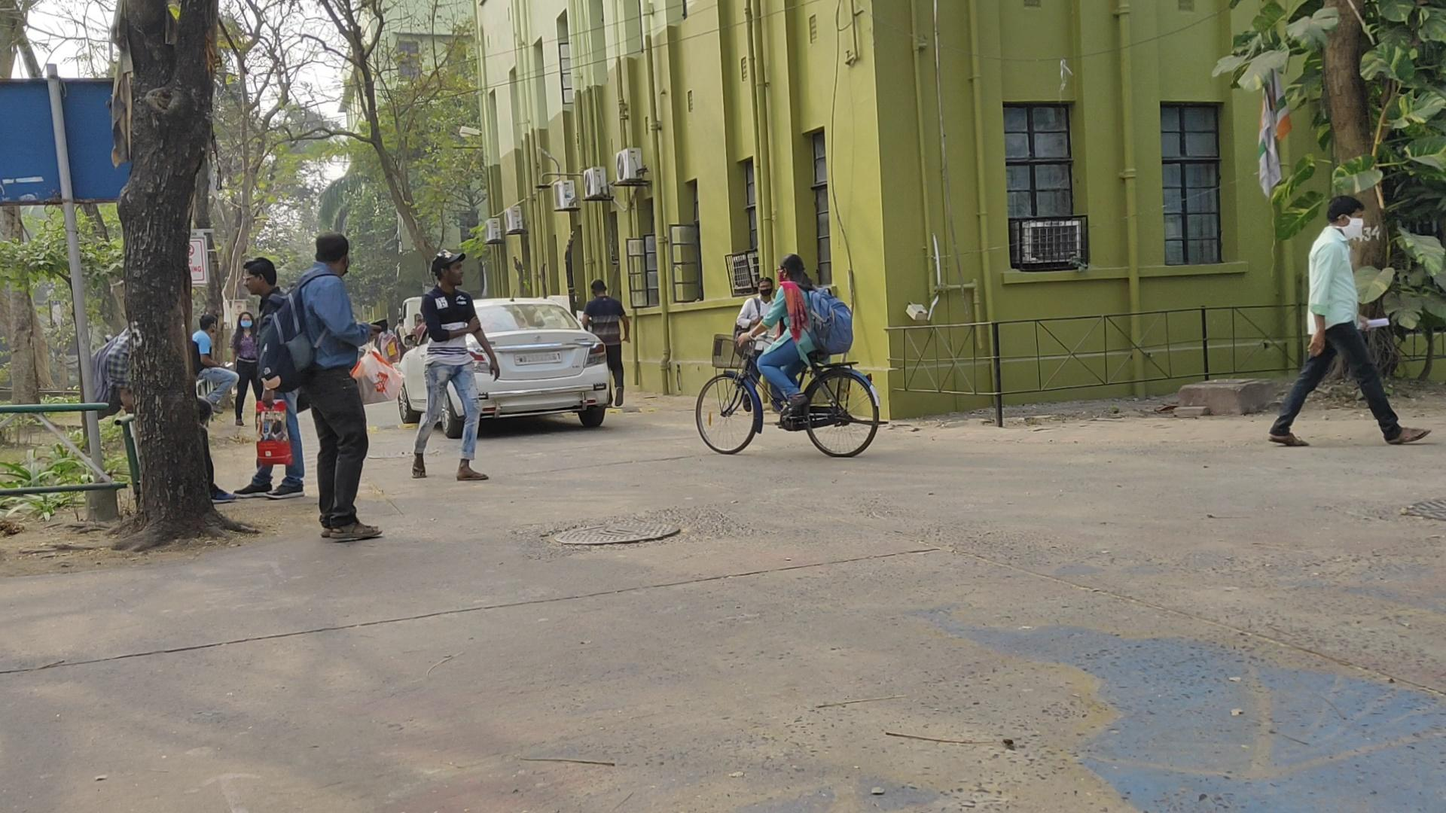bike: (696, 254, 889, 458)
car: (398, 297, 611, 440)
